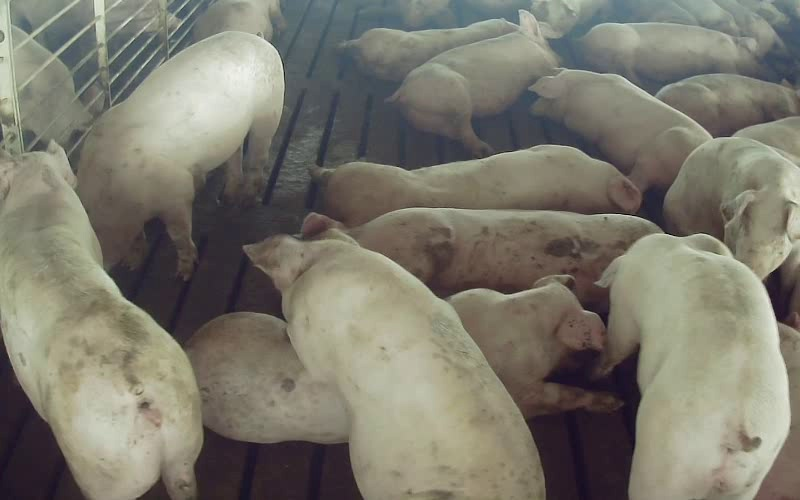pig: (244, 214, 544, 499), (597, 234, 789, 499), (78, 31, 283, 279), (349, 208, 660, 310), (310, 145, 641, 226), (387, 10, 558, 155), (529, 69, 711, 191), (663, 137, 799, 278), (574, 22, 759, 91), (338, 19, 518, 81), (656, 74, 799, 136)
